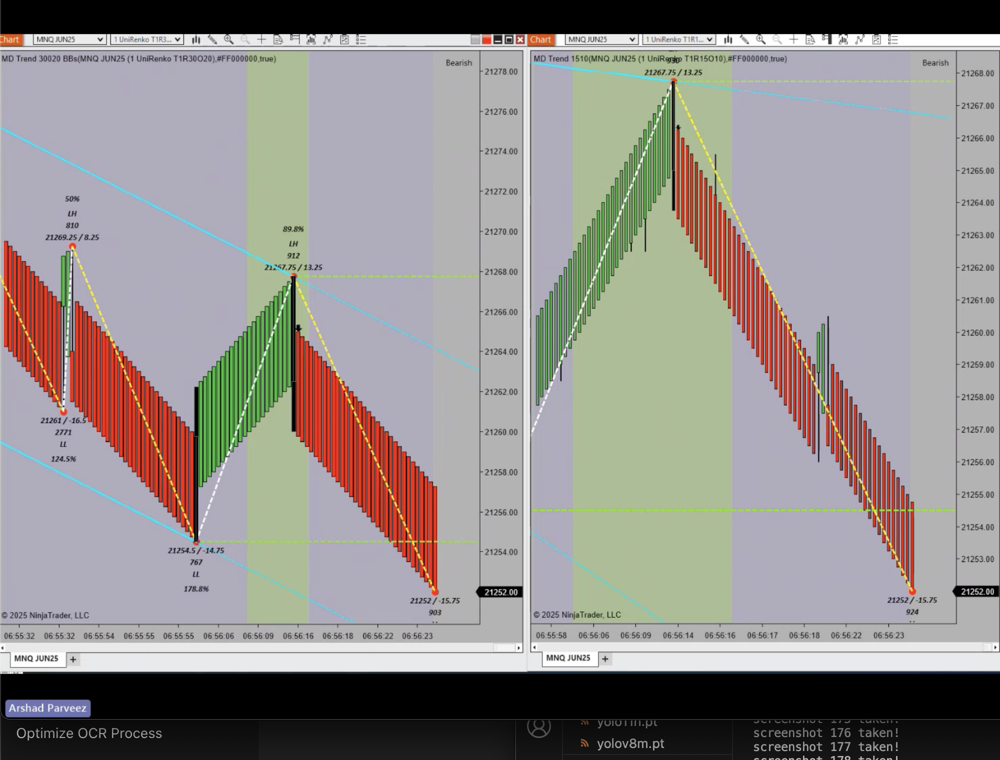LH: (62, 204, 88, 223), (283, 236, 307, 252)
LL: (184, 564, 213, 585), (54, 435, 79, 456)
